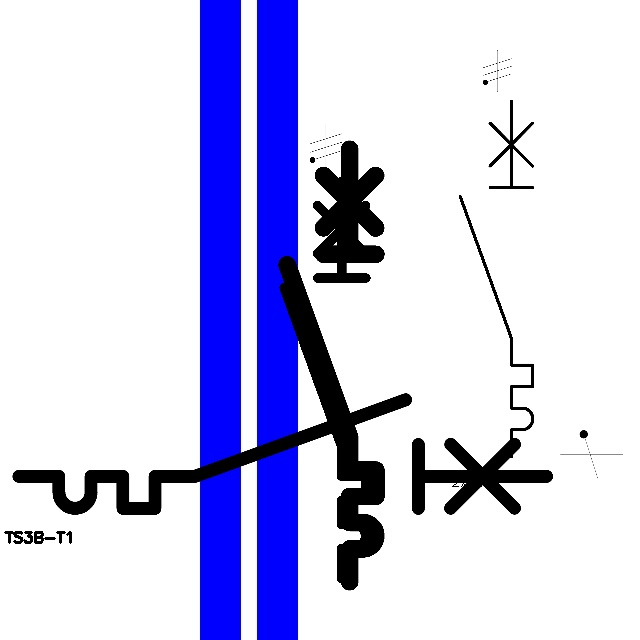interruptor_termomagnetico: (5, 386, 560, 522), (276, 138, 387, 593), (274, 171, 376, 589), (451, 92, 542, 465)
